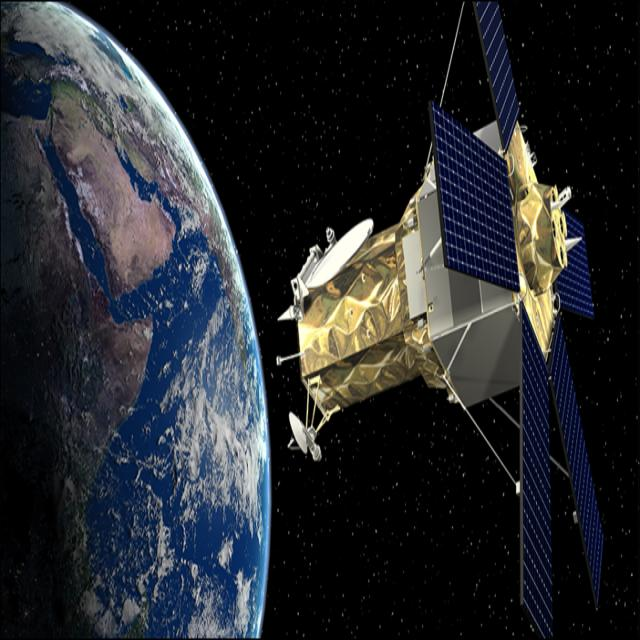satellite: (276, 0, 611, 640)
